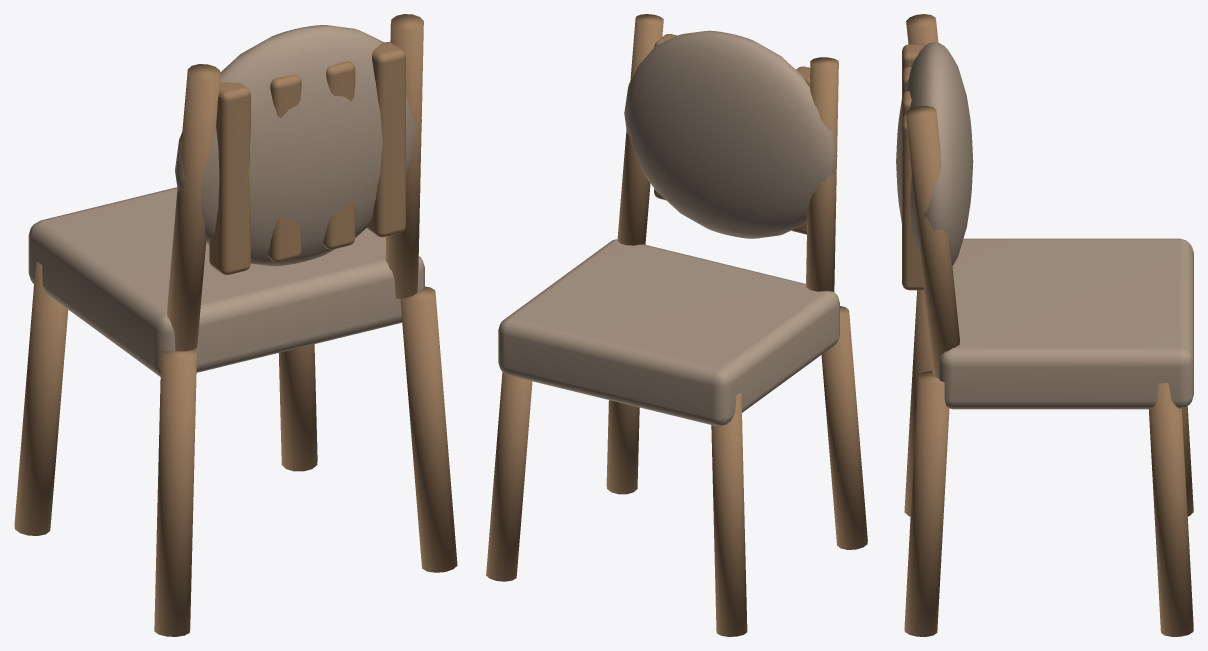
The model's file is cadeira-rustica.glb.
3 renders of one model, left to right at view 1: azimuth 30°, elevation 25°; view 2: azimuth 150°, elevation 25°; view 3: azimuth 270°, elevation 25°, orthographic. The views are drawn at different scales.
Parts seen in each view (by area): view 1: Assento moldado, Encosto envolvente, Pé de madeira, Pé de madeira.002, Pé de madeira.001, Montante do encosto, Ripa do encosto, Ripa do encosto.003, Montante do encosto.001, Pé de madeira.003, Ripa do encosto.001, Ripa do encosto.002; view 2: Assento moldado, Encosto envolvente, Pé de madeira.001, Pé de madeira, Pé de madeira.003, Montante do encosto, Montante do encosto.001, Pé de madeira.002; view 3: Assento moldado, Encosto envolvente, Pé de madeira.002, Pé de madeira.003, Montante do encosto.001, Pé de madeira, Ripa do encosto.003, Montante do encosto, Pé de madeira.001.
Part boxes in pixels (x1=…): Assento moldado: x1=28, y1=187, x2=424, y2=376; Encosto envolvente: x1=175, y1=25, x2=421, y2=266; Pé de madeira: x1=154, y1=349, x2=196, y2=636; Pé de madeira.002: x1=400, y1=286, x2=457, y2=572; Pé de madeira.001: x1=14, y1=261, x2=68, y2=535; Montante do encosto: x1=167, y1=64, x2=220, y2=351; Ripa do encosto: x1=209, y1=82, x2=250, y2=274; Ripa do encosto.003: x1=367, y1=42, x2=405, y2=237; Montante do encosto.001: x1=385, y1=14, x2=423, y2=298; Pé de madeira.003: x1=278, y1=344, x2=317, y2=471; Ripa do encosto.001: x1=267, y1=74, x2=301, y2=262; Ripa do encosto.002: x1=323, y1=61, x2=355, y2=249; Assento moldado: x1=498, y1=239, x2=839, y2=425; Encosto envolvente: x1=624, y1=30, x2=837, y2=238; Pé de madeira.001: x1=711, y1=392, x2=747, y2=636; Pé de madeira: x1=821, y1=306, x2=867, y2=549; Pé de madeira.003: x1=486, y1=372, x2=532, y2=581; Montante do encosto: x1=806, y1=57, x2=838, y2=291; Montante do encosto.001: x1=617, y1=14, x2=663, y2=245; Pé de madeira.002: x1=606, y1=400, x2=639, y2=494; Assento moldado: x1=938, y1=238, x2=1193, y2=409; Encosto envolvente: x1=896, y1=42, x2=973, y2=265; Pé de madeira.002: x1=904, y1=371, x2=949, y2=636; Pé de madeira.003: x1=1149, y1=383, x2=1193, y2=636; Montante do encosto.001: x1=906, y1=105, x2=959, y2=377; Pé de madeira: x1=904, y1=290, x2=932, y2=516; Ripa do encosto.003: x1=902, y1=114, x2=923, y2=290; Montante do encosto: x1=906, y1=14, x2=938, y2=44; Pé de madeira.001: x1=1182, y1=406, x2=1193, y2=516.
Bounding box in the file's own units: 0.45 × 0.8128 × 0.4246.
